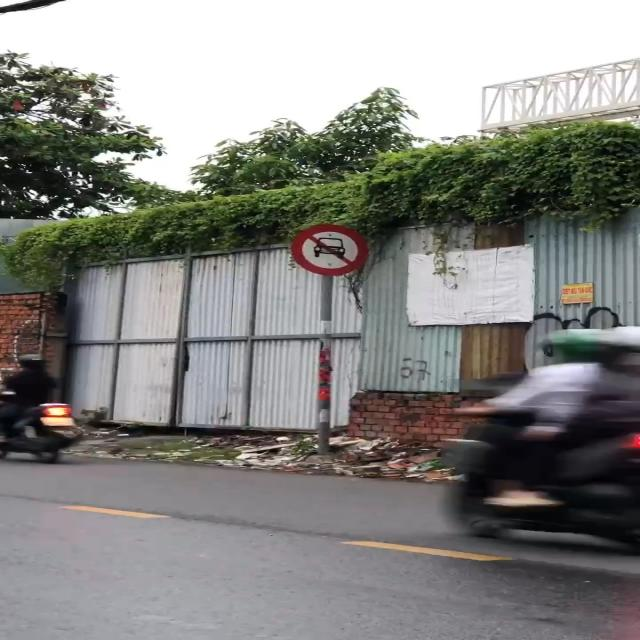Bien bao cam xe oto: (288, 224, 376, 276)
